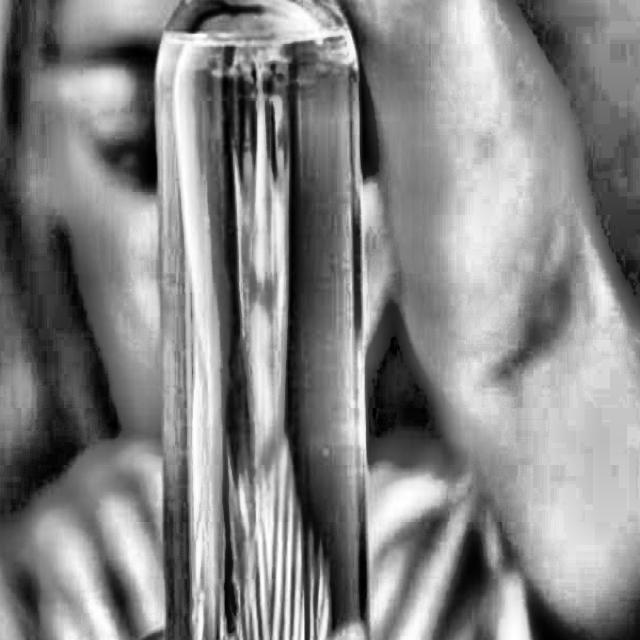bottle: (156, 0, 366, 640)
